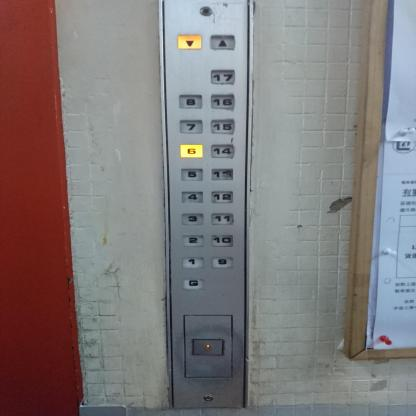1: (182, 256, 204, 270)
10: (210, 234, 233, 248)
11: (210, 212, 235, 226)
12: (210, 190, 233, 204)
13: (210, 167, 234, 181)
14: (210, 143, 235, 159)
15: (210, 118, 236, 135)
16: (210, 92, 235, 110)
17: (210, 69, 236, 85)
2: (181, 233, 204, 248)
3: (180, 212, 204, 226)
4: (181, 190, 204, 204)
5: (180, 167, 204, 182)
6: (179, 143, 204, 159)
7: (178, 118, 204, 135)
8: (177, 93, 203, 110)
9: (211, 256, 234, 270)
G: (181, 278, 205, 290)
down: (176, 34, 202, 50)
empty: (191, 338, 225, 356)
up: (209, 34, 237, 50)
